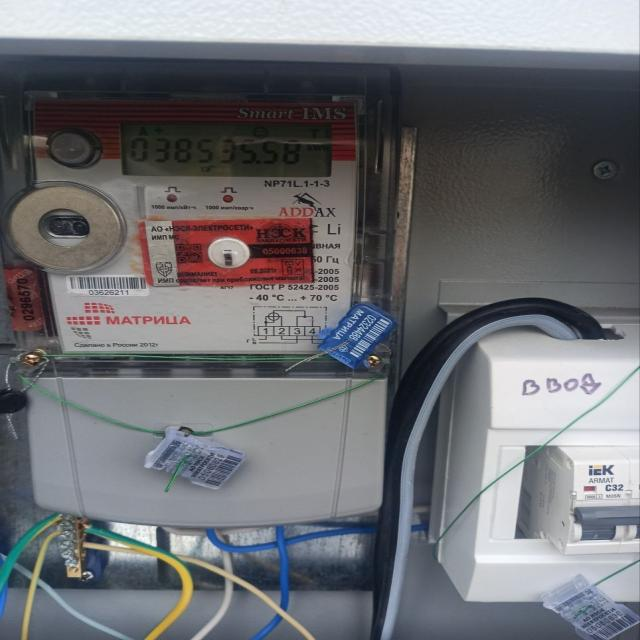Display: (118, 119, 336, 177)
meter_matrica: (12, 87, 415, 531)
meter_number: (61, 270, 151, 301)
seal_elso: (143, 420, 250, 492)
seal_imp: (138, 216, 316, 286)
